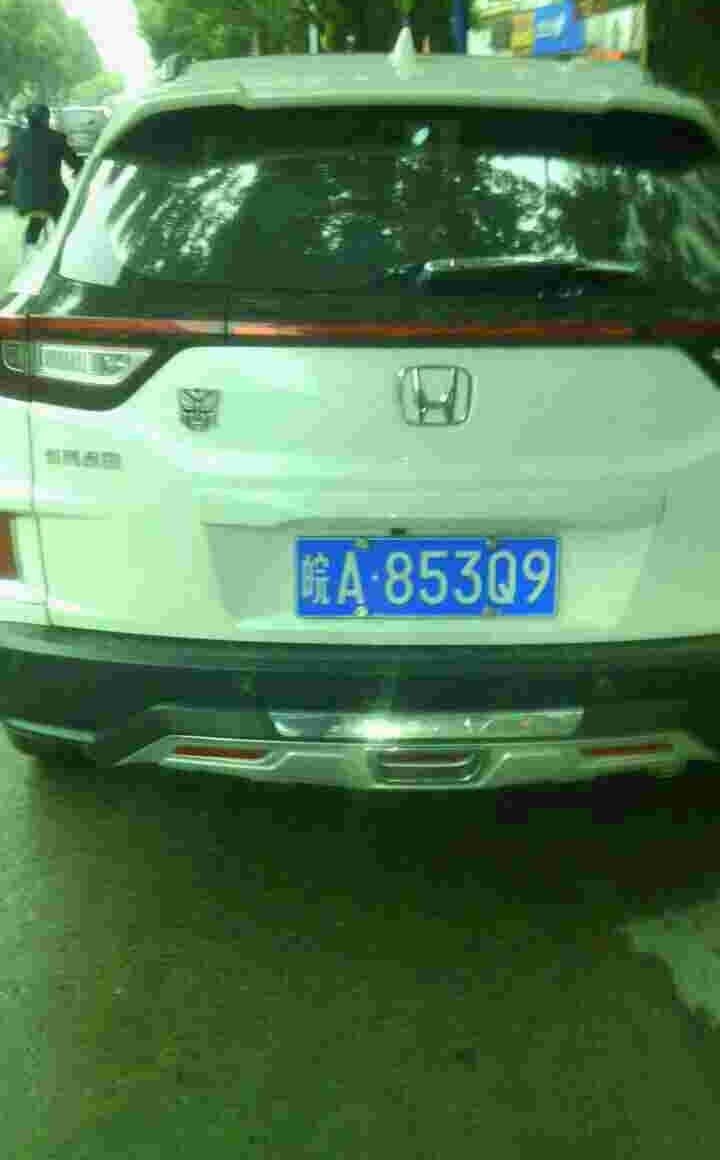car: (293, 537, 555, 616)
